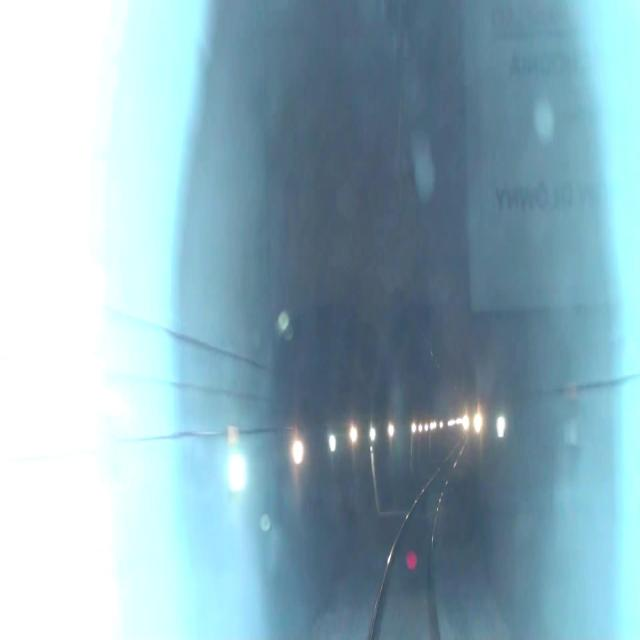rail-track: (374, 450, 458, 639)
